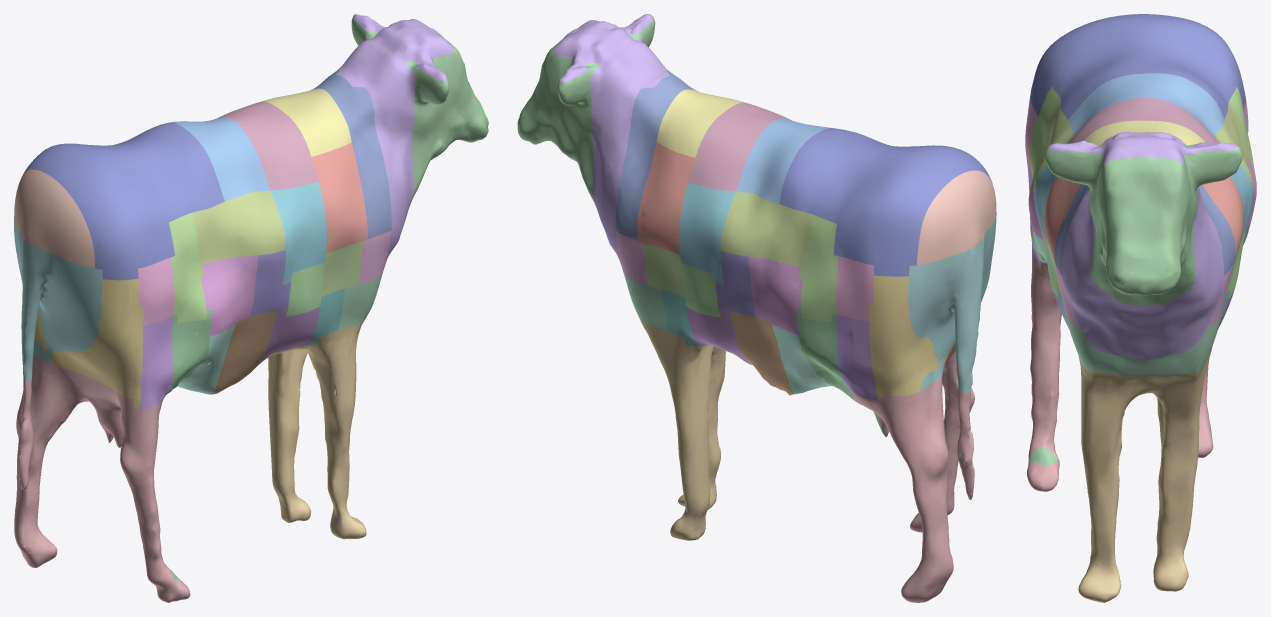
The picture shows the model from 3 angles, left to right: view 1: azimuth 30°, elevation 25°; view 2: azimuth 150°, elevation 25°; view 3: azimuth 270°, elevation 25°; orthographic projection. The views are drawn at different scales.
Visible parts, largest first — view 1: rumsteck, gite-arriere, gite-avant, collier, rond-de-gite, joue, gite-a-la-noix, queue, filet, macreuse-a-bifteck, entrecote, paleron (+17 smaller); view 2: rumsteck, gite-arriere, collier, gite-avant, rond-de-gite, joue, gite-a-la-noix, queue, filet, macreuse-a-bifteck, entrecote, paleron (+17 smaller); view 3: joue, gite-avant, collier, rumsteck, gite-arriere, faux-filet, gros-bout-de-poitrine, paleron, entrecote, macreuse-a-bifteck, filet, aiguillette-baronne (+7 smaller).
Boxes of the visible parts, bbox=[...] form: rumsteck: bbox=[23, 122, 224, 280]; gite-arriere: bbox=[14, 353, 190, 602]; gite-avant: bbox=[266, 321, 366, 539]; collier: bbox=[336, 14, 453, 267]; rond-de-gite: bbox=[14, 217, 102, 382]; joue: bbox=[351, 17, 488, 197]; gite-a-la-noix: bbox=[21, 278, 143, 408]; queue: bbox=[14, 169, 94, 268]; filet: bbox=[192, 190, 285, 275]; macreuse-a-bifteck: bbox=[312, 69, 391, 239]; entrecote: bbox=[218, 101, 318, 190]; paleron: bbox=[311, 142, 367, 253]; rumsteck: bbox=[779, 128, 992, 276]; gite-arriere: bbox=[850, 346, 974, 602]; collier: bbox=[553, 14, 669, 266]; gite-avant: bbox=[641, 321, 739, 540]; rond-de-gite: bbox=[908, 212, 996, 392]; joue: bbox=[517, 17, 655, 200]; gite-a-la-noix: bbox=[868, 275, 987, 401]; queue: bbox=[917, 170, 996, 265]; filet: bbox=[720, 191, 813, 278]; macreuse-a-bifteck: bbox=[615, 70, 696, 240]; entrecote: bbox=[688, 102, 789, 191]; paleron: bbox=[637, 142, 694, 254]; joue: bbox=[1045, 144, 1242, 305]; gite-avant: bbox=[1078, 349, 1211, 602]; collier: bbox=[1047, 132, 1239, 360]; rumsteck: bbox=[1030, 14, 1245, 119]; gite-arriere: bbox=[1027, 256, 1213, 491]; faux-filet: bbox=[1068, 73, 1224, 141]; gros-bout-de-poitrine: bbox=[1066, 316, 1221, 376]; paleron: bbox=[1044, 176, 1243, 261]; entrecote: bbox=[1068, 97, 1218, 143]; macreuse-a-bifteck: bbox=[1054, 184, 1235, 275]; filet: bbox=[1033, 101, 1253, 193]; aiguillette-baronne: bbox=[1029, 87, 1255, 191].
Size of the model in its own units: 1 by 0.995 by 0.4133.
